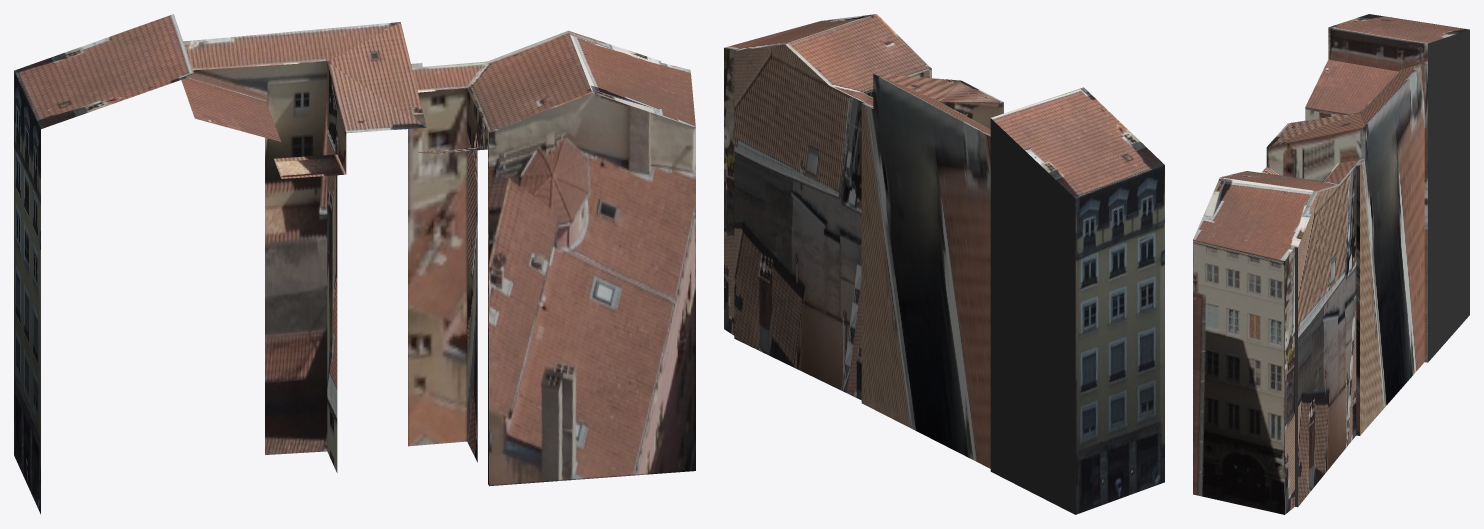
The picture shows the model from 3 angles, left to right: view 1: azimuth 30°, elevation 25°; view 2: azimuth 150°, elevation 25°; view 3: azimuth 270°, elevation 25°; orthographic projection. The views are drawn at different scales.
Visible parts, largest first — view 1: Z_UP; view 2: Z_UP; view 3: Z_UP.
Boxes of the visible parts, box(x1,y1,x2,y2) form: Z_UP: box(14, 14, 695, 514); Z_UP: box(724, 14, 1164, 514); Z_UP: box(1193, 14, 1469, 514).
Bounding box in the file's own units: 41.61 × 28.84 × 22.68.
2 materials, 1 textured.
